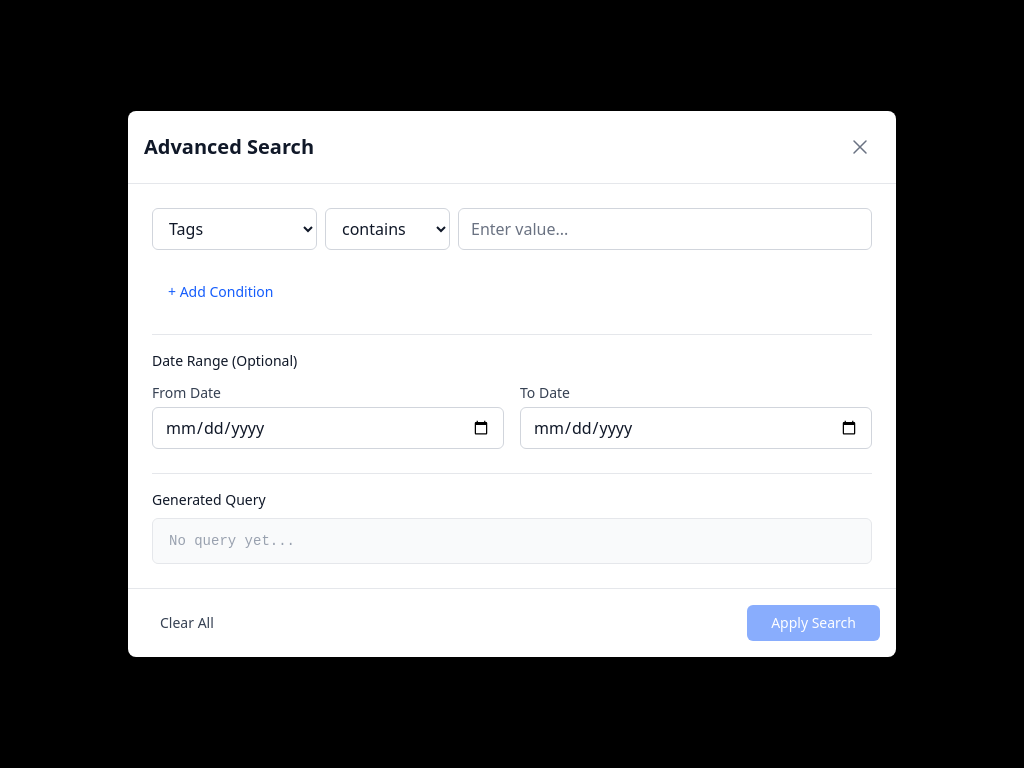
Test case: AdvancedSearchBuilder › clear all › should reset all conditions when clear clicked
Type "moth" into the field labelled "Enter value..." at (665, 229), box [458,208,872,250]
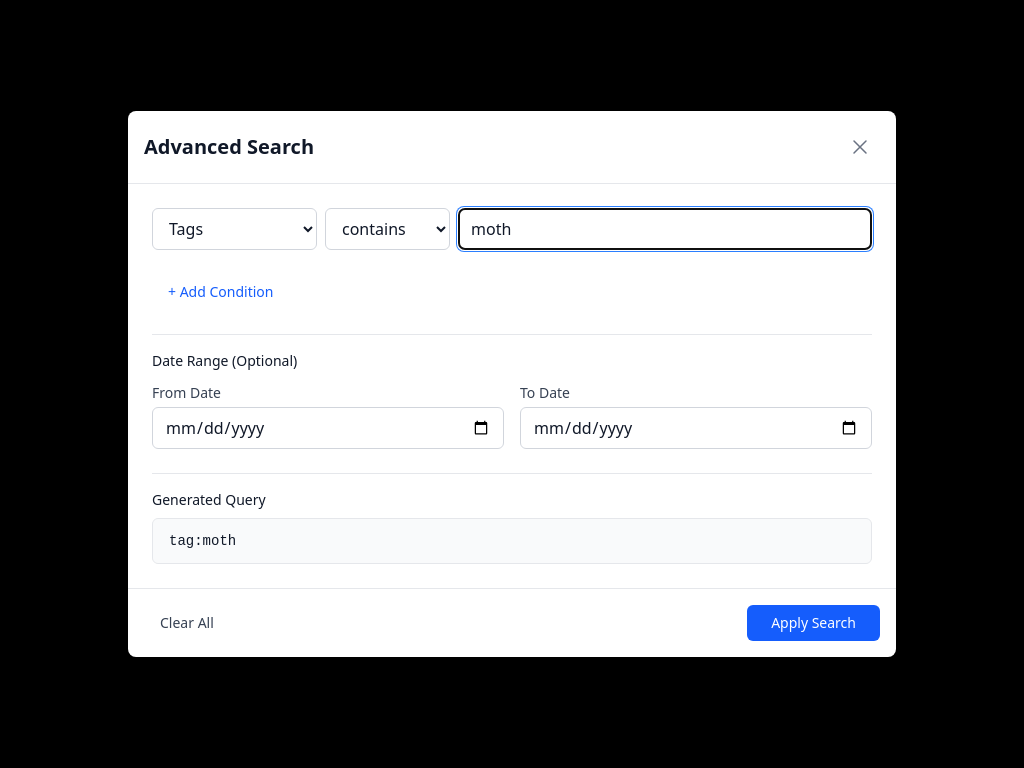
Click the button "Clear All" at (187, 623), box [144,605,230,641]
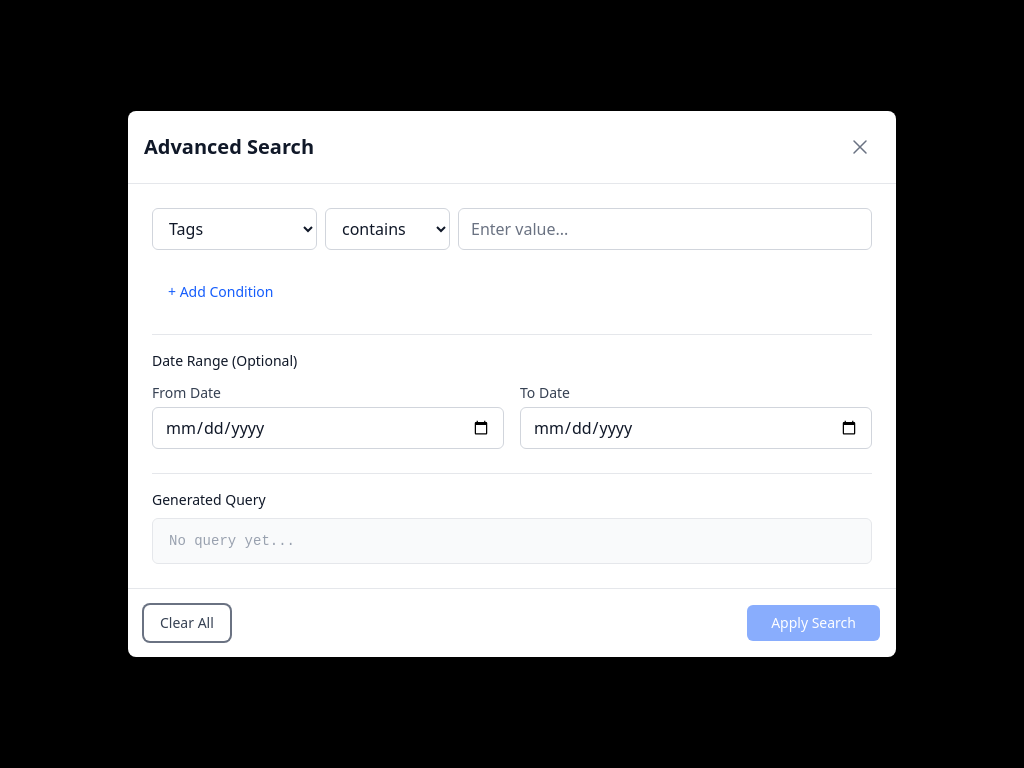
Expected: the field labelled "Enter value..." is empty, [458,208,872,250]
